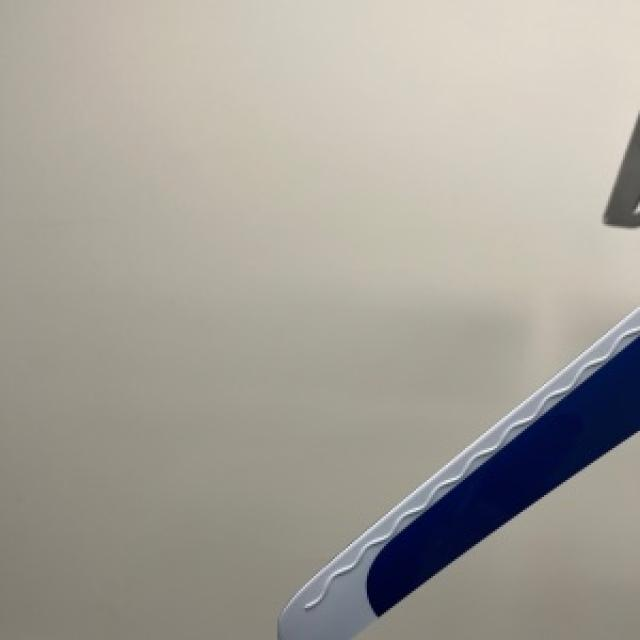healthy: (371, 435, 638, 638)
